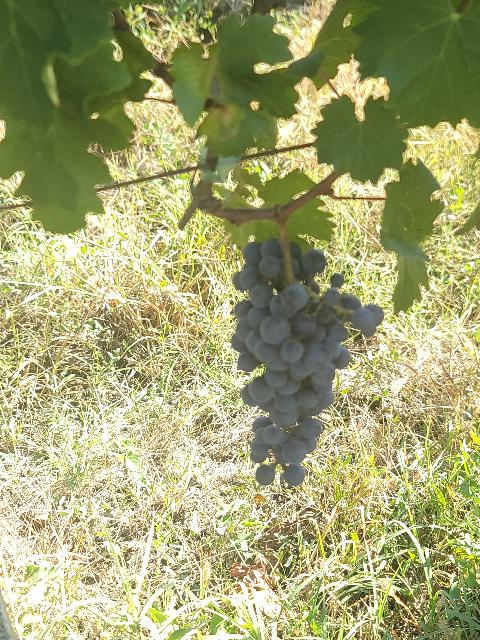grapes: (231, 239, 384, 486)
